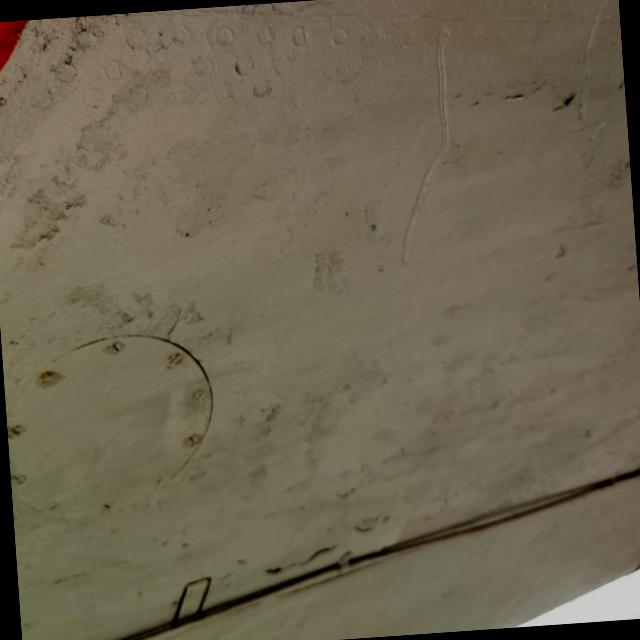scratch: (356, 14, 520, 290)
